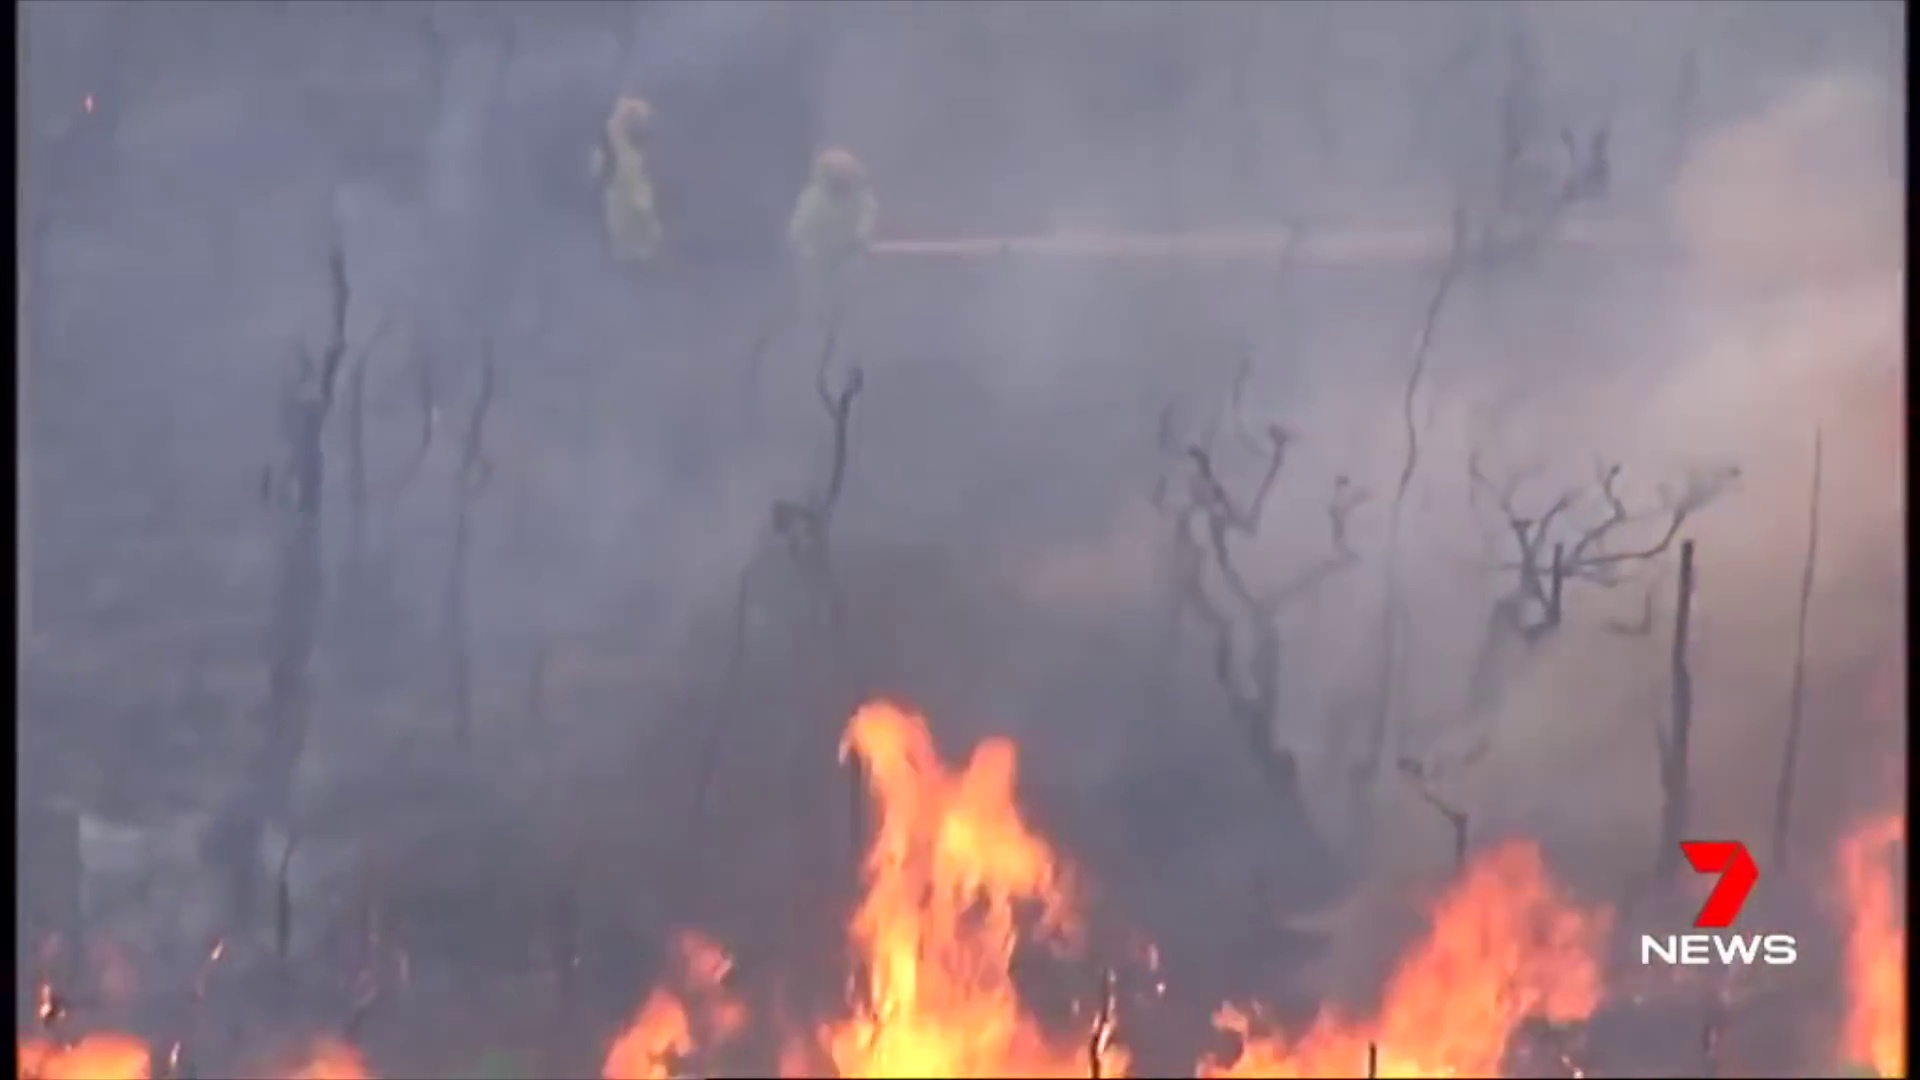fire: (812, 702, 1056, 1080), (1217, 844, 1598, 1080), (596, 939, 740, 1080), (1846, 812, 1909, 1075), (23, 1036, 153, 1080)
